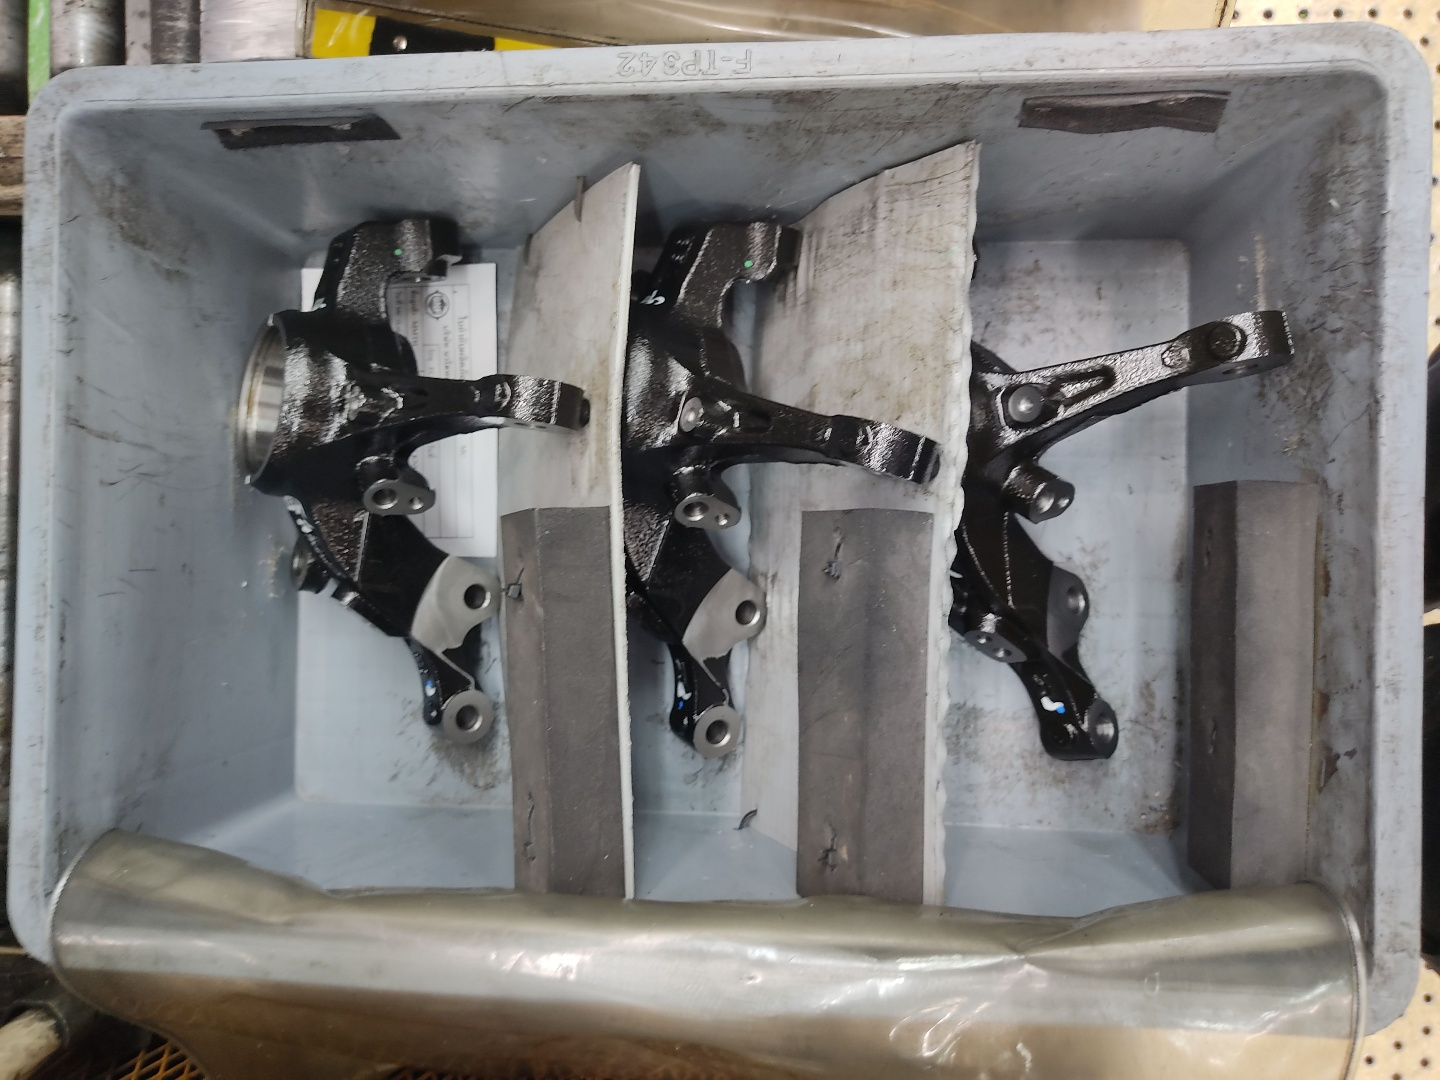abs-rh: (226, 203, 596, 759), (942, 200, 1296, 767), (599, 206, 946, 766)
